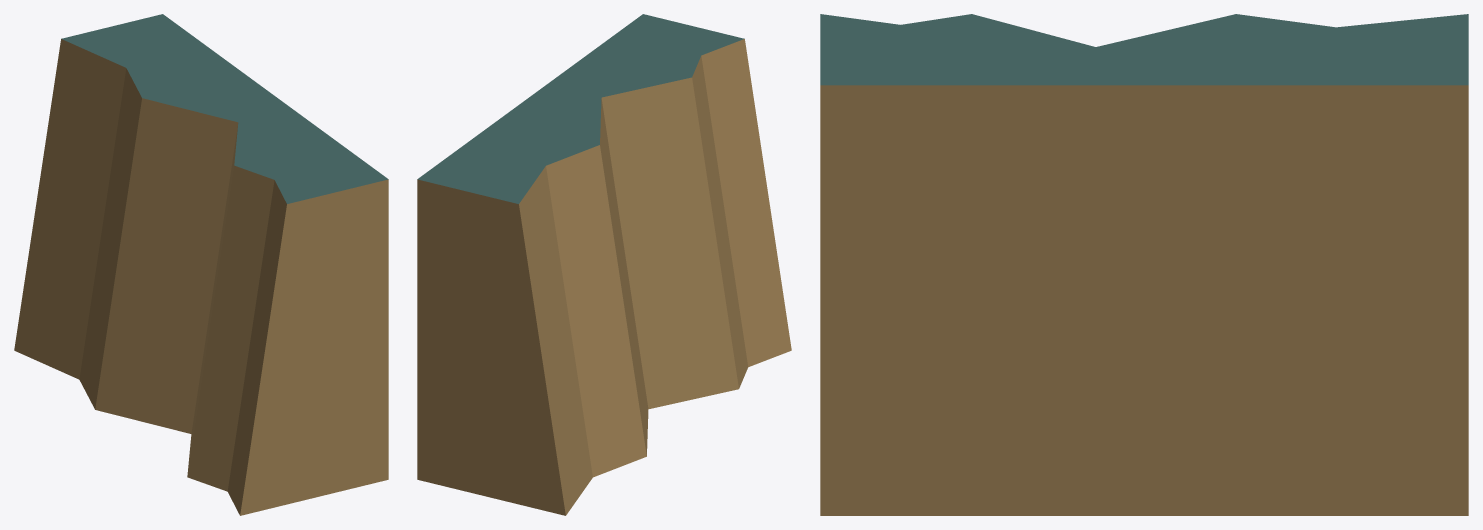
The model's file is Brown_Cliff_Bottom_Green_Top_01.fbx.
3 views of the same model, side by side, from view 1: azimuth 30°, elevation 25°; view 2: azimuth 150°, elevation 25°; view 3: azimuth 270°, elevation 25° (orthographic). The views are drawn at different scales.
Visible parts, largest first — view 1: Mesh1_Brown_Cliff_Bottom_Green_Top Model; view 2: Mesh1_Brown_Cliff_Bottom_Green_Top Model; view 3: Mesh1_Brown_Cliff_Bottom_Green_Top Model.
Boxes of the visible parts, box(x1,y1,x2,y2) form: Mesh1_Brown_Cliff_Bottom_Green_Top Model: box(14, 14, 388, 515); Mesh1_Brown_Cliff_Bottom_Green_Top Model: box(417, 14, 791, 515); Mesh1_Brown_Cliff_Bottom_Green_Top Model: box(820, 14, 1468, 515).
Size of the model in its own units: 1.14 by 2.2 by 3.
